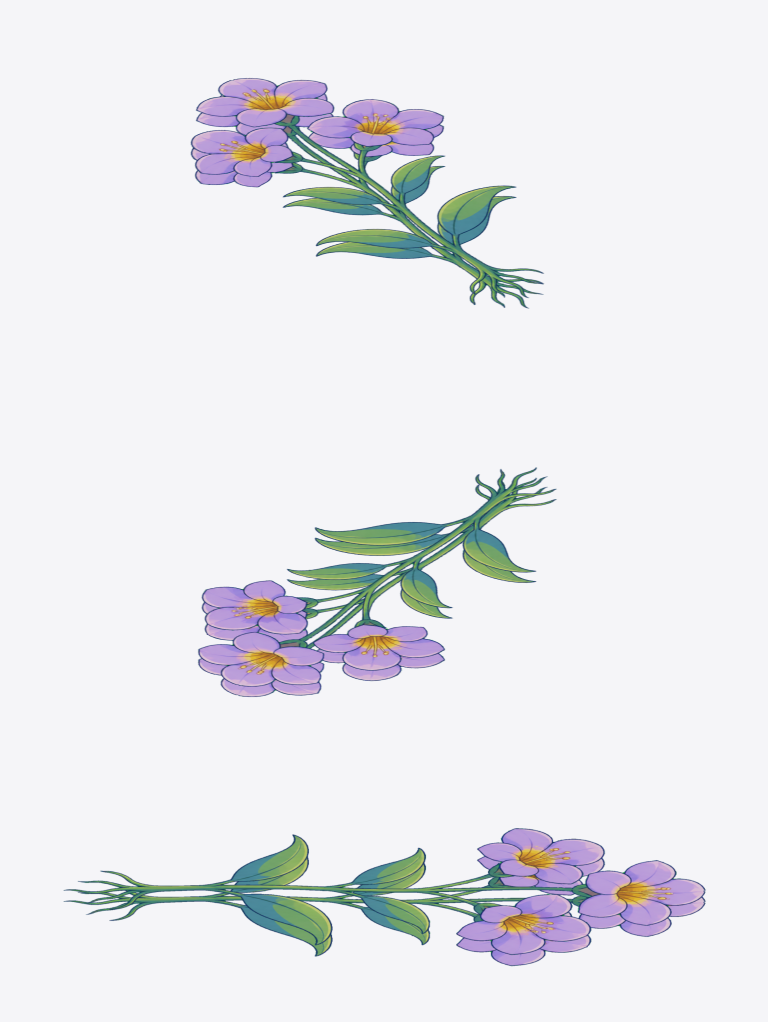
Rendered from 004_flower_lavender_card.glb.
3 views of the same model, one above another, from view 1: azimuth 30°, elevation 25°; view 2: azimuth 150°, elevation 25°; view 3: azimuth 270°, elevation 25° (orthographic). The views are drawn at different scales.
Visible parts, largest first — view 1: 004_flower_lavender_card; view 2: 004_flower_lavender_card; view 3: 004_flower_lavender_card.
Part boxes in pixels (box(x1,y1,x2,y2)): 004_flower_lavender_card: box(190, 78, 543, 308); 004_flower_lavender_card: box(198, 467, 556, 696); 004_flower_lavender_card: box(63, 828, 705, 965).
Bounding box in the file's own units: 2 × 0.05 × 3.
1 material, 1 textured.
